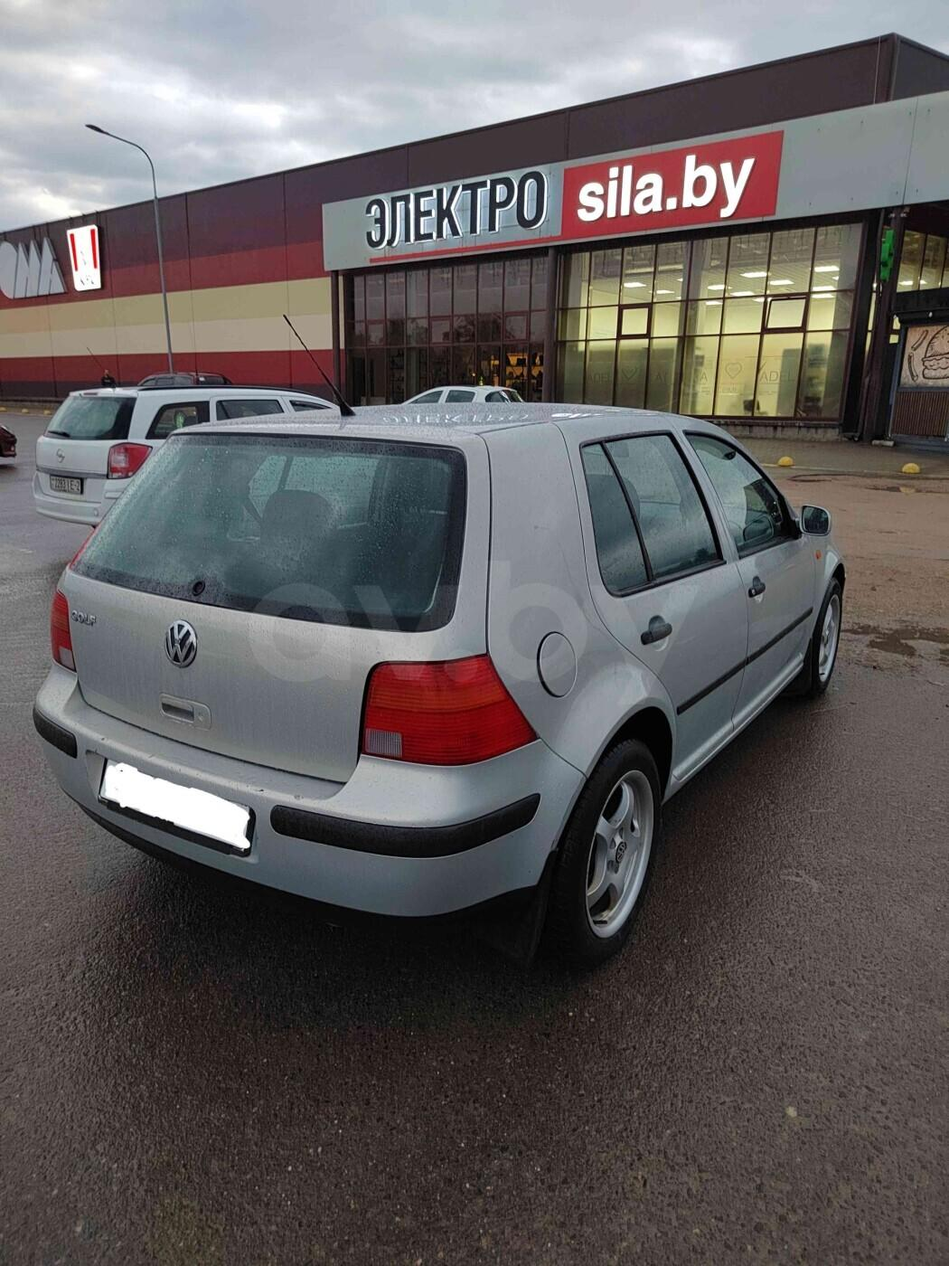Golf_1997-2006: (25, 403, 854, 969)
